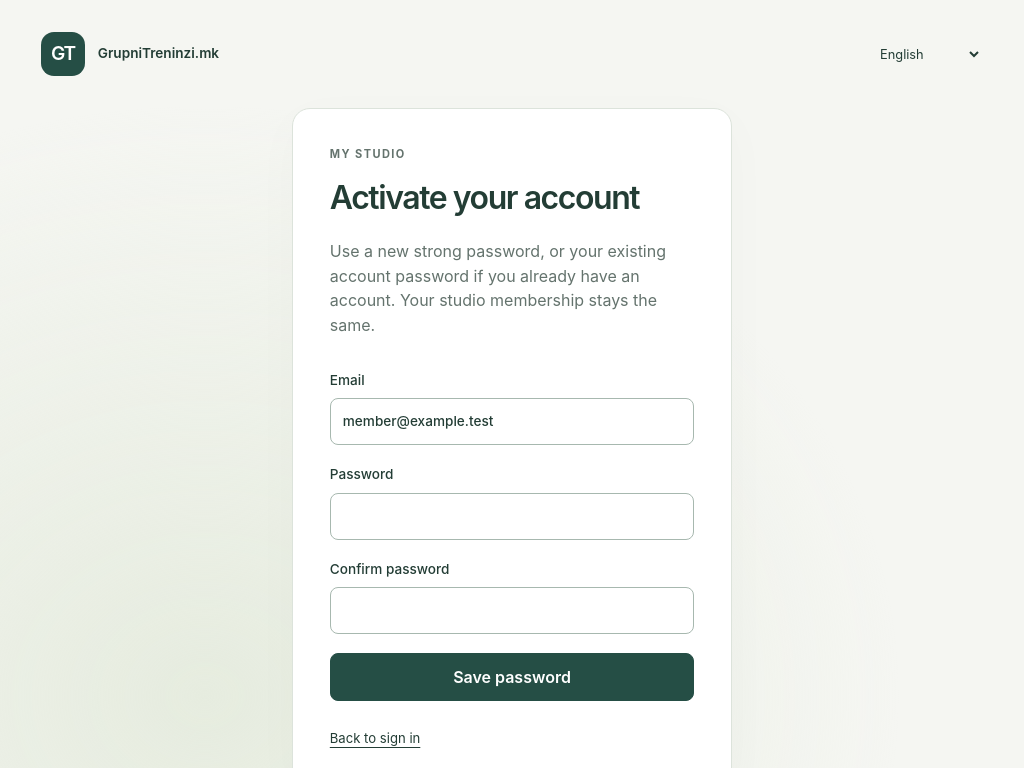
activates using fragment token and requires explicit sign in
Type "Strong-password-123!" into the password field labelled "Password".
click(512, 516); type("Strong-password-123!")  # box [330,493,694,540]
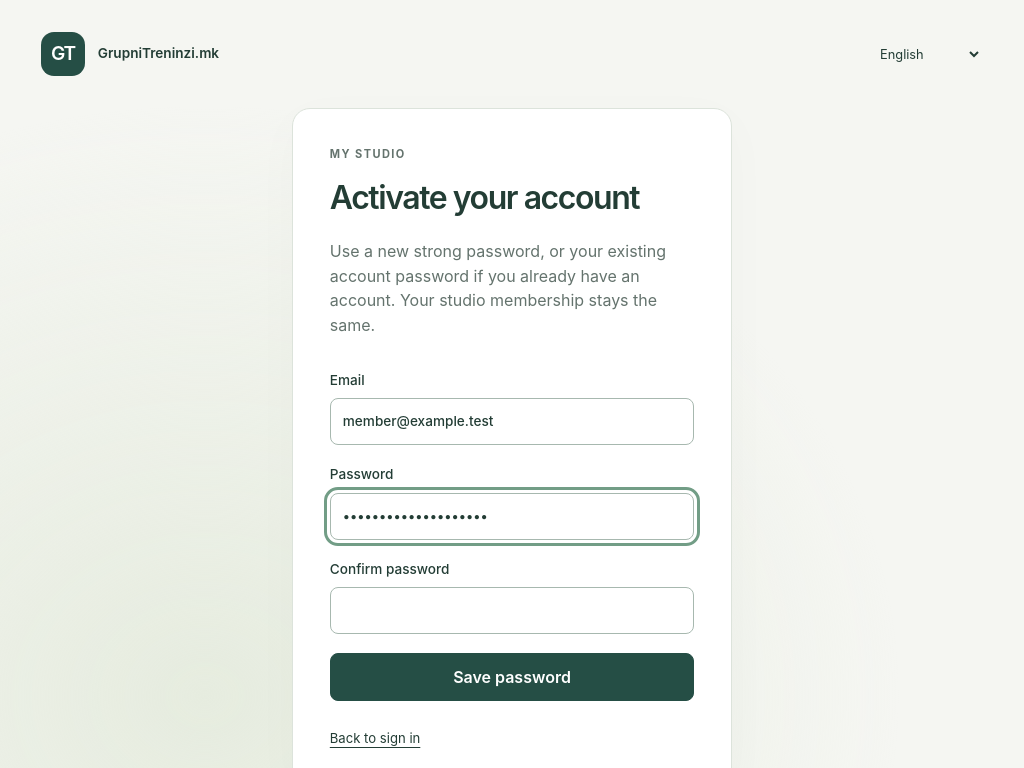
Type "Strong-password-123!" into the password field labelled "Confirm password".
click(512, 611); type("Strong-password-123!")  # box [330,587,694,634]
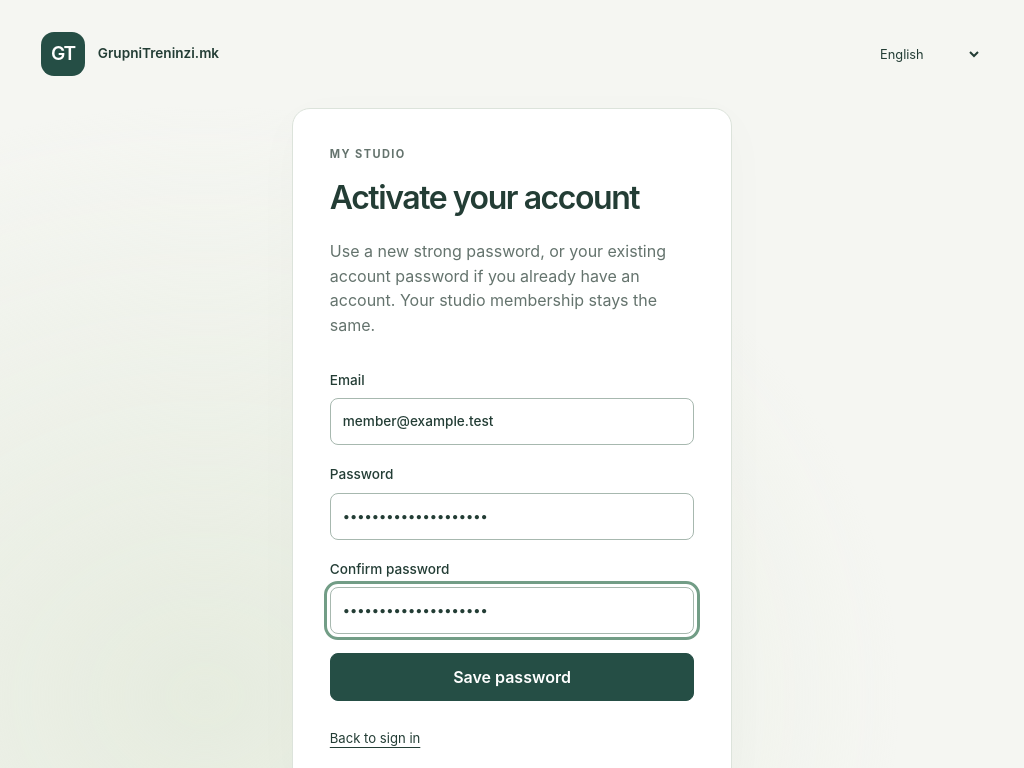
Click the button "Save password".
click(512, 677)  # box [330,653,694,701]
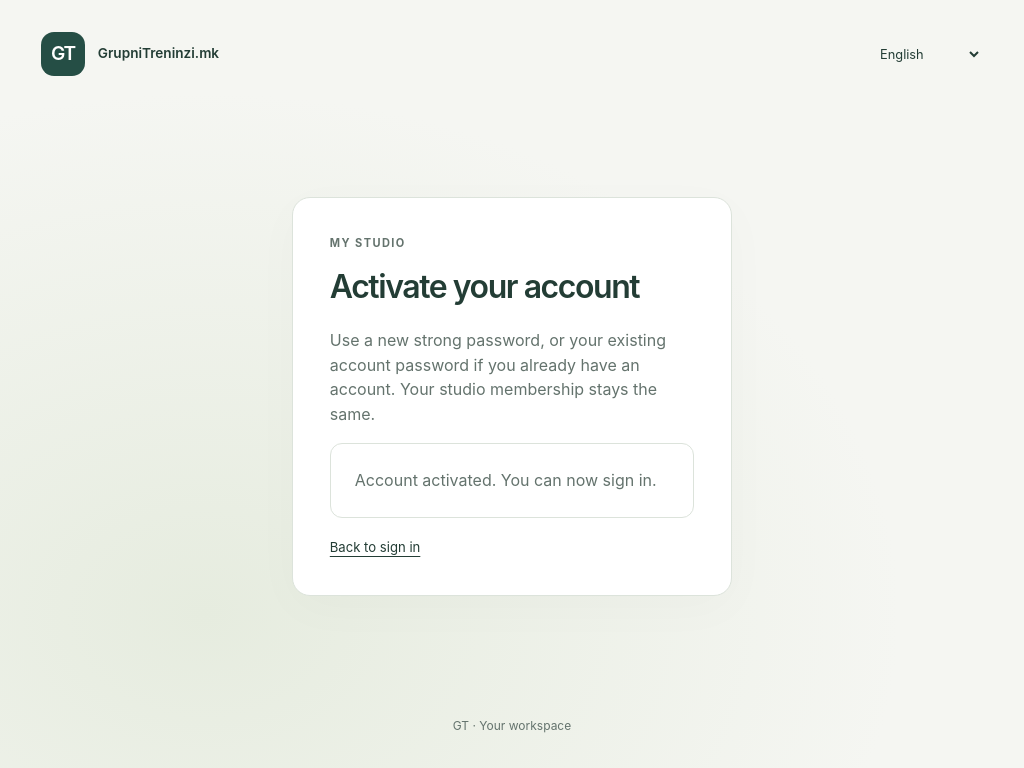
Now the text "Account activated. You can now sign in." is shown, box [330,443,694,518]
